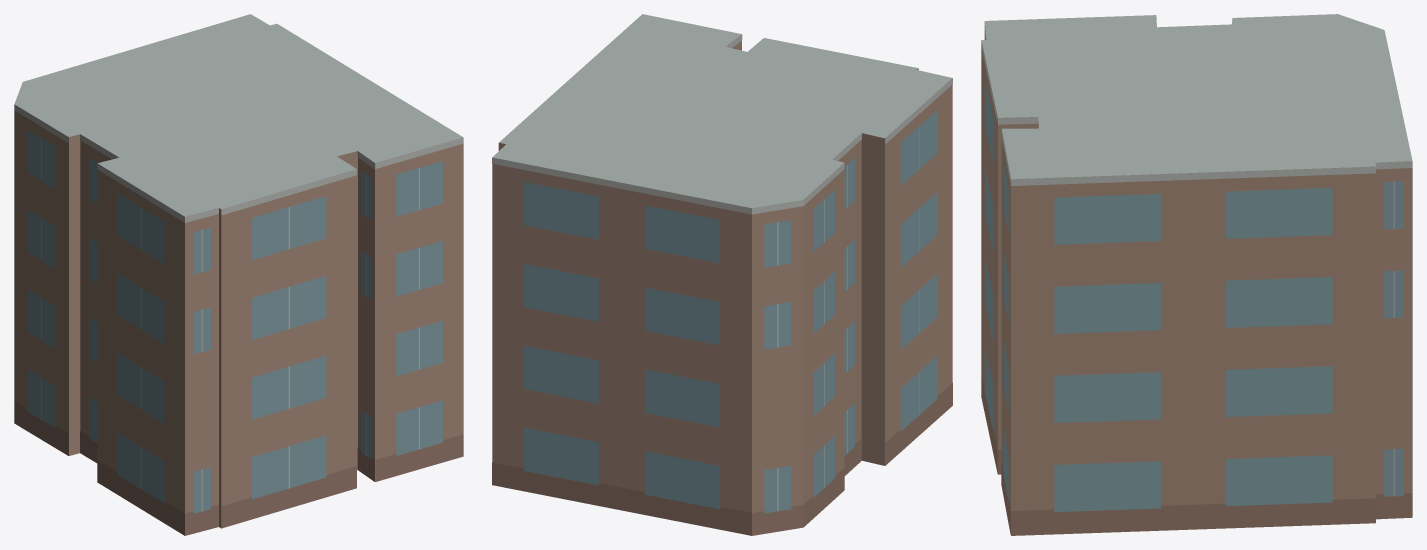
The model's file is survey-upis-32676388.glb.
3 views of the same model, side by side, from view 1: azimuth 30°, elevation 25°; view 2: azimuth 150°, elevation 25°; view 3: azimuth 270°, elevation 25° (orthographic). The views are drawn at different scales.
Parts seen in each view (by area): view 1: survey-upis-32676388.tmp; view 2: survey-upis-32676388.tmp; view 3: survey-upis-32676388.tmp.
Boxes of the visible parts, box(x1,y1,x2,y2) form: survey-upis-32676388.tmp: box(14, 14, 463, 535); survey-upis-32676388.tmp: box(492, 14, 952, 535); survey-upis-32676388.tmp: box(981, 14, 1412, 535).
Size of the model in its own units: 12.74 by 12.8 by 14.04.
